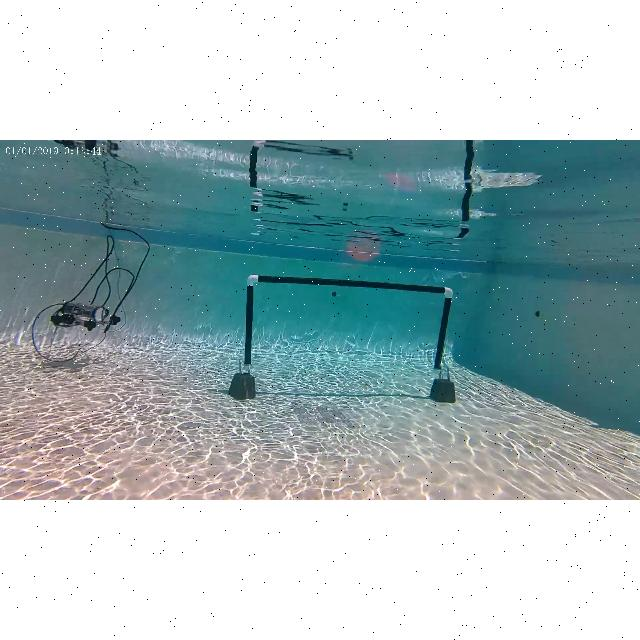prequal gate: (243, 274, 453, 374)
prequal gate leg l: (242, 274, 260, 374)
prequal gate leg r: (432, 284, 454, 374)
